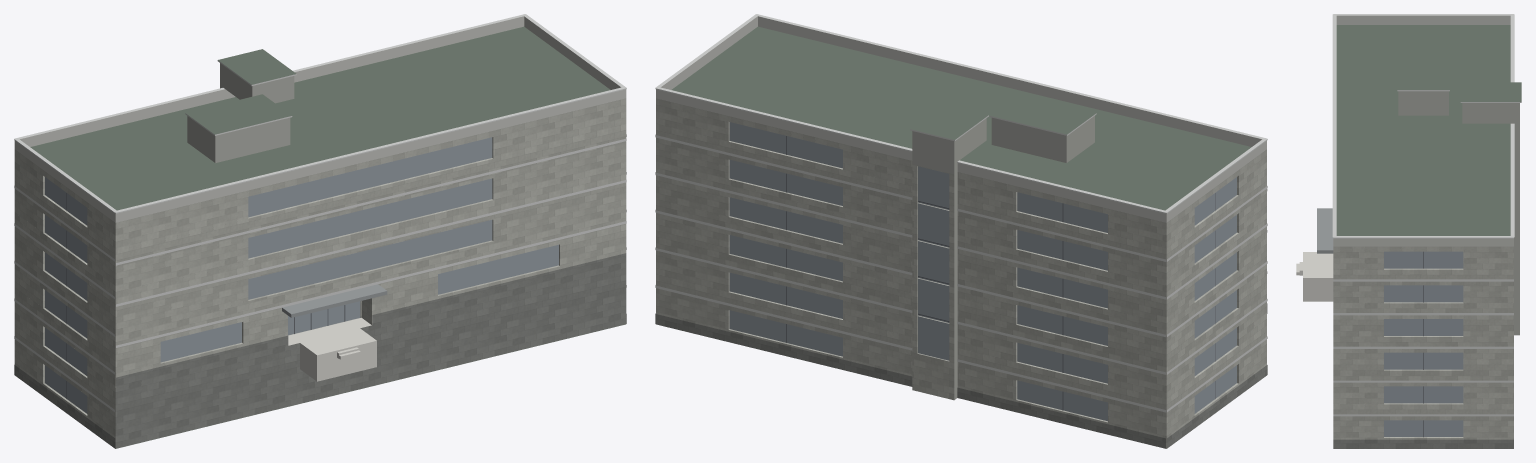
3 renders of one model, left to right at view 1: azimuth 30°, elevation 25°; view 2: azimuth 150°, elevation 25°; view 3: azimuth 270°, elevation 25°, orthographic. The views are drawn at different scales.
Visible parts, largest first — view 1: b44_1__wall, b44_1__roof, b44_1__base, b44_1__glass, b44_1__parapet, b44_1__trim, b44_1__wall2, b44_1__entranceStair, b44_1__canopy; view 2: b44_1__wall, b44_1__roof, b44_1__glass, b44_1__trim, b44_1__parapet, b44_1__base, b44_1__wall2, b44_1__frame; view 3: b44_1__roof, b44_1__wall, b44_1__glass, b44_1__trim, b44_1__wall2, b44_1__parapet, b44_1__base, b44_1__entranceStair, b44_1__canopy.
Part boxes in pixels (<box>): b44_1__wall: <box>14,98,626,448</box>; b44_1__roof: <box>30,26,625,448</box>; b44_1__base: <box>14,253,626,448</box>; b44_1__glass: <box>45,137,558,413</box>; b44_1__parapet: <box>14,16,626,222</box>; b44_1__trim: <box>14,14,626,411</box>; b44_1__wall2: <box>187,63,294,162</box>; b44_1__entranceStair: <box>288,318,376,381</box>; b44_1__canopy: <box>282,284,387,317</box>; b44_1__wall: <box>656,98,1266,448</box>; b44_1__roof: <box>672,26,1251,210</box>; b44_1__glass: <box>729,122,1236,421</box>; b44_1__trim: <box>655,14,1267,412</box>; b44_1__parapet: <box>656,16,1266,222</box>; b44_1__base: <box>655,303,1267,448</box>; b44_1__wall2: <box>912,116,1094,399</box>; b44_1__frame: <box>786,136,1215,410</box>; b44_1__roof: <box>1336,25,1521,235</box>; b44_1__wall: <box>1333,246,1513,439</box>; b44_1__glass: <box>1384,251,1463,436</box>; b44_1__trim: <box>1332,14,1521,416</box>; b44_1__wall2: <box>1398,91,1519,335</box>; b44_1__parapet: <box>1333,15,1513,246</box>; b44_1__base: <box>1333,439,1513,448</box>; b44_1__entranceStair: <box>1296,252,1333,301</box>; b44_1__canopy: <box>1317,208,1333,253</box>.
Size of the model in its own units: 51.23 by 25.01 by 21.81.
Materials: 11 (2 with a texture image).
